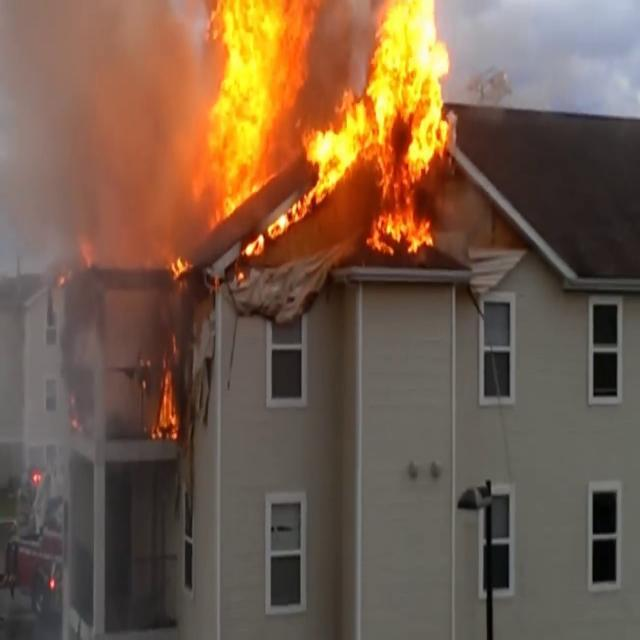Fire: (208, 0, 450, 258)
